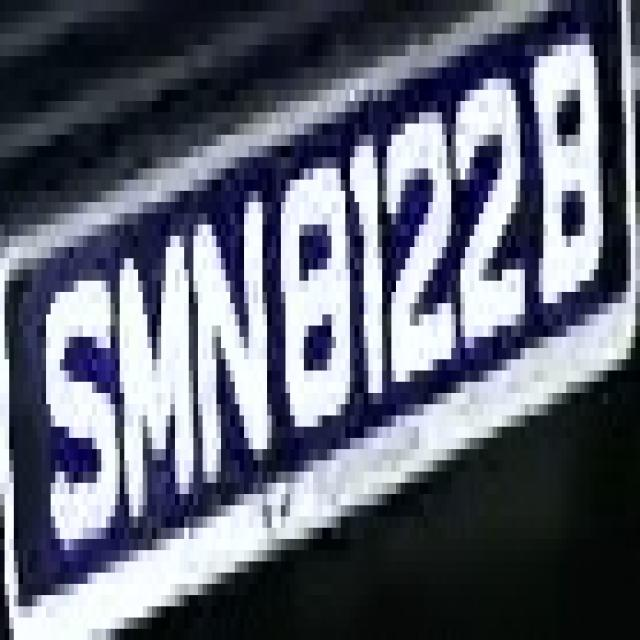1: (341, 79, 391, 449)
2: (378, 79, 460, 404), (447, 78, 534, 370)
8: (262, 135, 364, 438)
B: (529, 23, 617, 314)
M: (102, 213, 194, 539)
N: (184, 157, 272, 528)
S: (37, 258, 120, 573)
